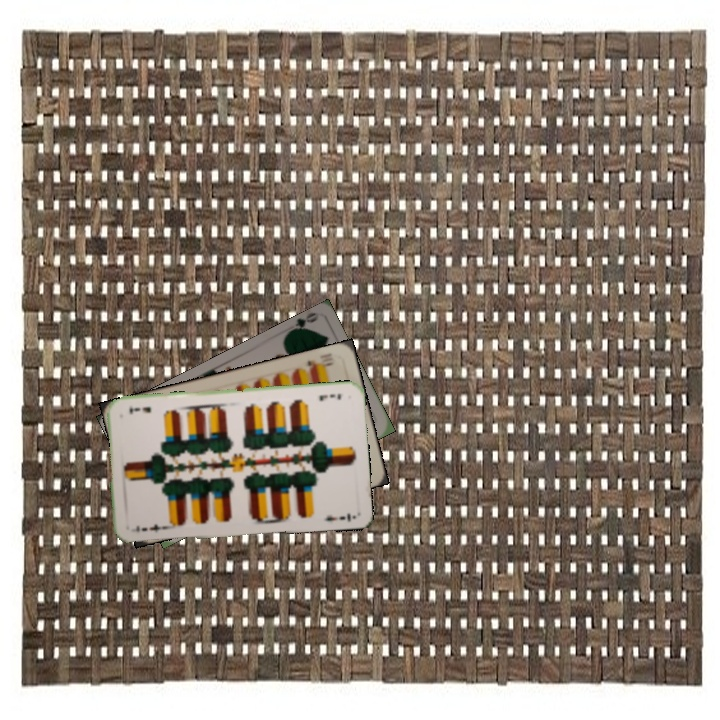E10: (303, 349, 336, 374)
E7: (131, 520, 168, 535), (315, 390, 344, 404)
GO: (283, 310, 320, 337)
